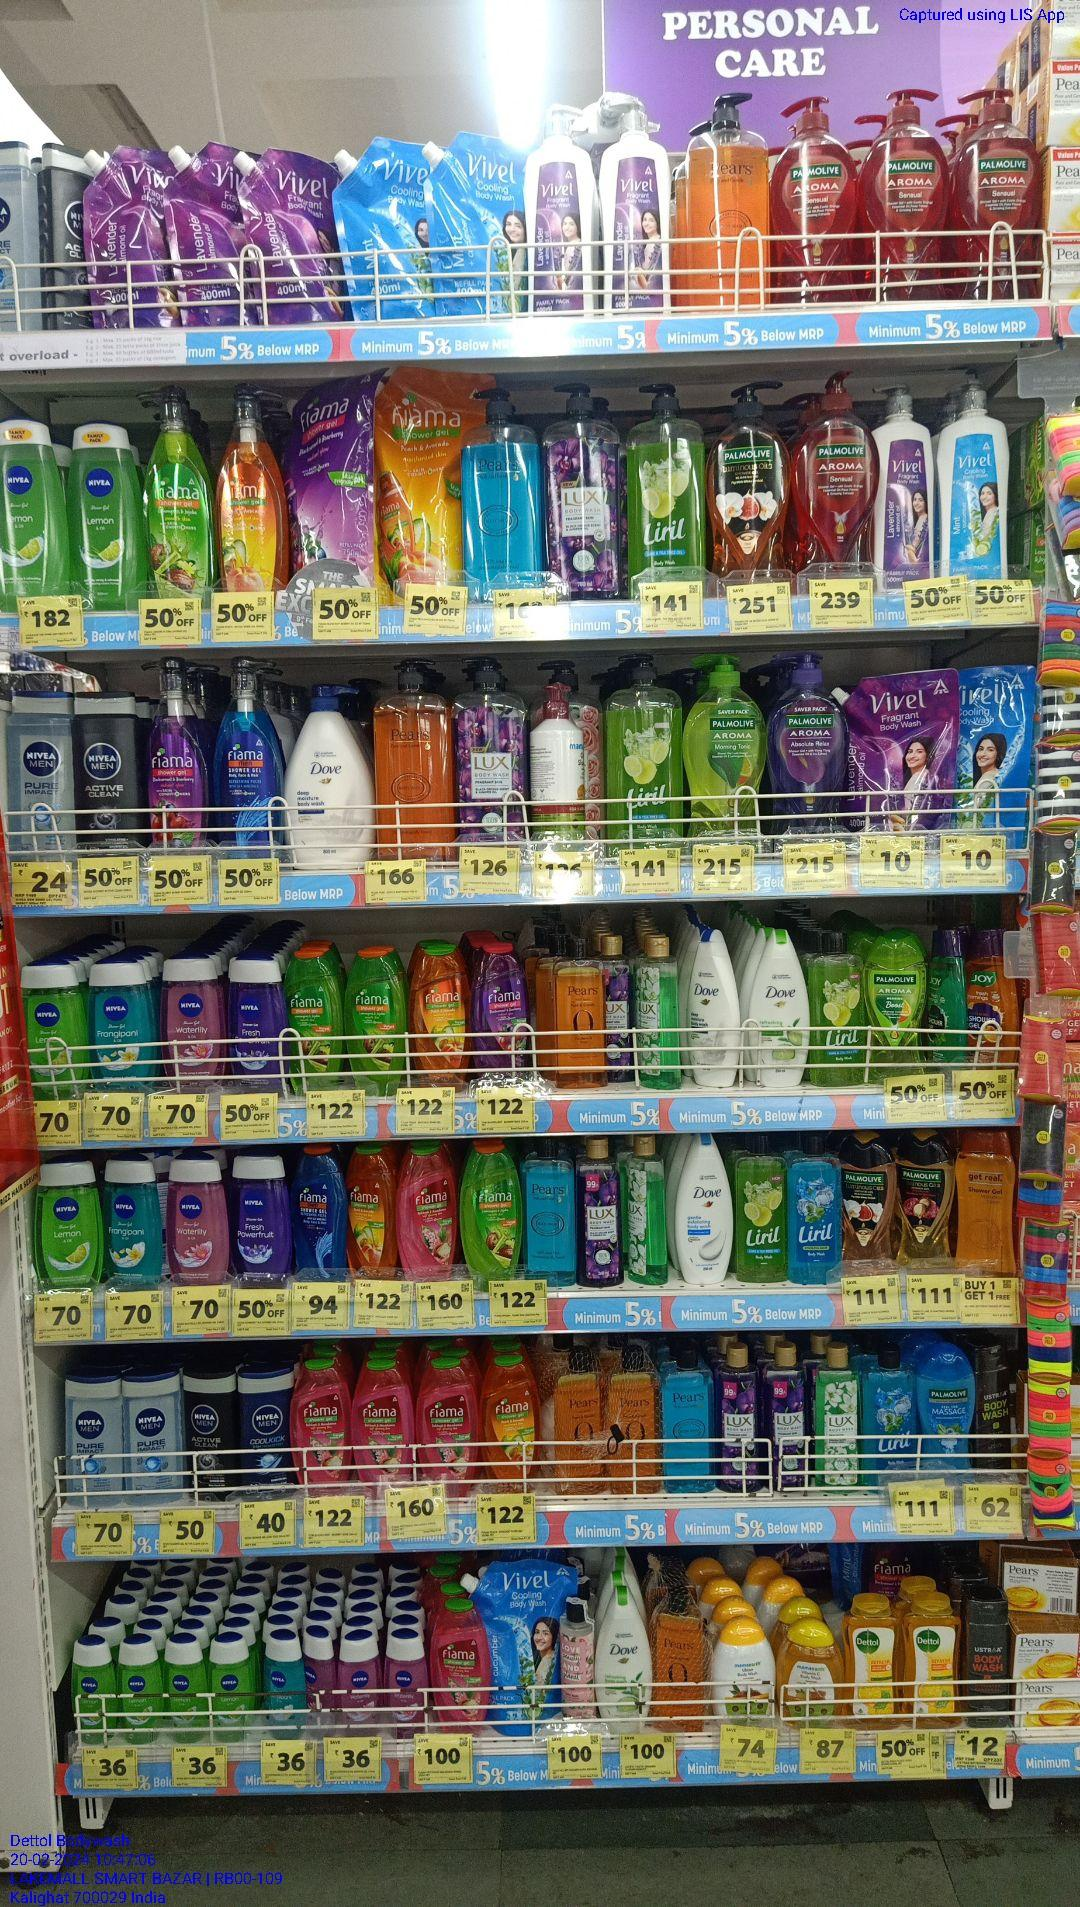Dettol_Bodywash_Refresh: (844, 1599, 903, 1728), (905, 1593, 957, 1729)
Dove_Deep_Moisture_Body_Wash_250ML: (689, 935, 741, 1086)
Dove_Gentle_Exfoliating_Body_Wash_250ML: (674, 1137, 734, 1284)
Dove_Refreshing_Body_Wash_250ML: (749, 918, 810, 1087), (594, 1586, 653, 1730)
Fiama_Shower_Gel_Lemongrass_and_Jojoba_250ML: (462, 1139, 522, 1278), (348, 951, 403, 1094), (291, 956, 343, 1091)
Fiama_Shower_Gel_Patchouli_and_Macadamia_250ML: (419, 1353, 477, 1496), (401, 1141, 457, 1278), (289, 1365, 351, 1485), (433, 1604, 490, 1731), (355, 1362, 414, 1481)
Fiama_Shower_Gel_Peach_and_Avocado_250ML: (410, 947, 470, 1083), (484, 1354, 541, 1484), (350, 1145, 395, 1285)
Get_Real_Shower_Gel_Moisturising_Glycerin_300ML: (961, 1129, 1013, 1276)
Joy_Shower_Gel_Mandarin_and_Lemongrass_250ML: (967, 926, 1016, 1067)
Joy_Shower_Gel_Mint_and_Eucalyptus_250ML: (927, 918, 962, 1069)
Liril_Cooling_Mint_Body_Wash_250ML: (792, 1132, 843, 1286), (860, 1352, 912, 1479)
Liril_Lime_and_Tea_Tree_Oil_Body_Wash_250ML: (813, 923, 867, 1086), (740, 1132, 788, 1281)
Lux_Black_Orchid_Scent_and_Juniper_Oil_Body_Wash_245ML: (580, 1134, 622, 1286), (723, 1348, 761, 1492), (770, 1344, 806, 1490), (605, 935, 636, 1083)
Lux_Body_Wash_Skin_Detox_Freesia_Scent_and_Alove_Vera_245ML: (639, 938, 681, 1090), (627, 1134, 668, 1286), (818, 1342, 856, 1488)
Nivea_Shower_Gel_Frangipani_and_Oil_250ML: (102, 1157, 165, 1286), (93, 969, 154, 1098)
Nivea_Shower_Gel_Fresh_Powerfruit_250ML: (232, 1158, 289, 1276), (232, 963, 284, 1088)
Nivea_Shower_Gel_Lemon_and_Oil_250ML: (73, 417, 144, 597), (0, 422, 64, 601), (29, 1160, 98, 1285), (18, 974, 85, 1096)
Nivea_Shower_Gel_Waterlily_and_Oil_250ML: (162, 957, 224, 1090), (170, 1160, 229, 1278)
Palmolive_Aroma_Relax_250ML: (919, 1350, 974, 1483)
Palmolive_Luminous_Oils_Invigorating_Macadamia_Oil_With_Peony_250ML: (897, 1129, 953, 1269)
Palmolive_Luminous_Oils_With_White_Orchid_Shower_Gel_250ML: (848, 1128, 893, 1273)
Pears_Pure_Glycerin_and_Mint_Extracts_Body_Wash_250ML: (660, 1354, 716, 1492), (529, 1139, 576, 1280)
